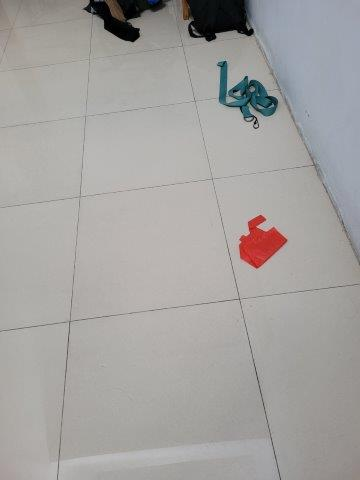plastik: (234, 213, 290, 270)
